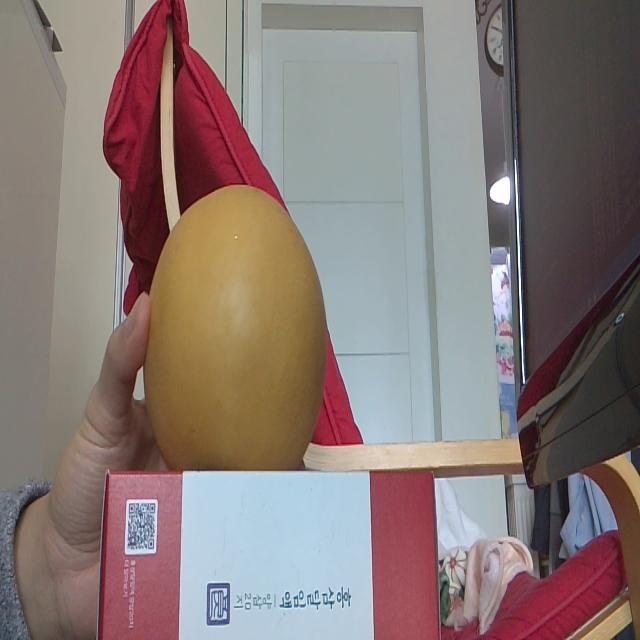pear: (144, 187, 328, 472)
